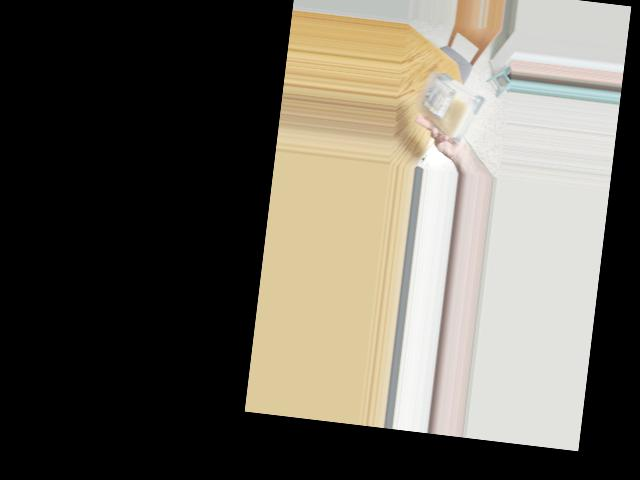cheese: (417, 70, 487, 129)
